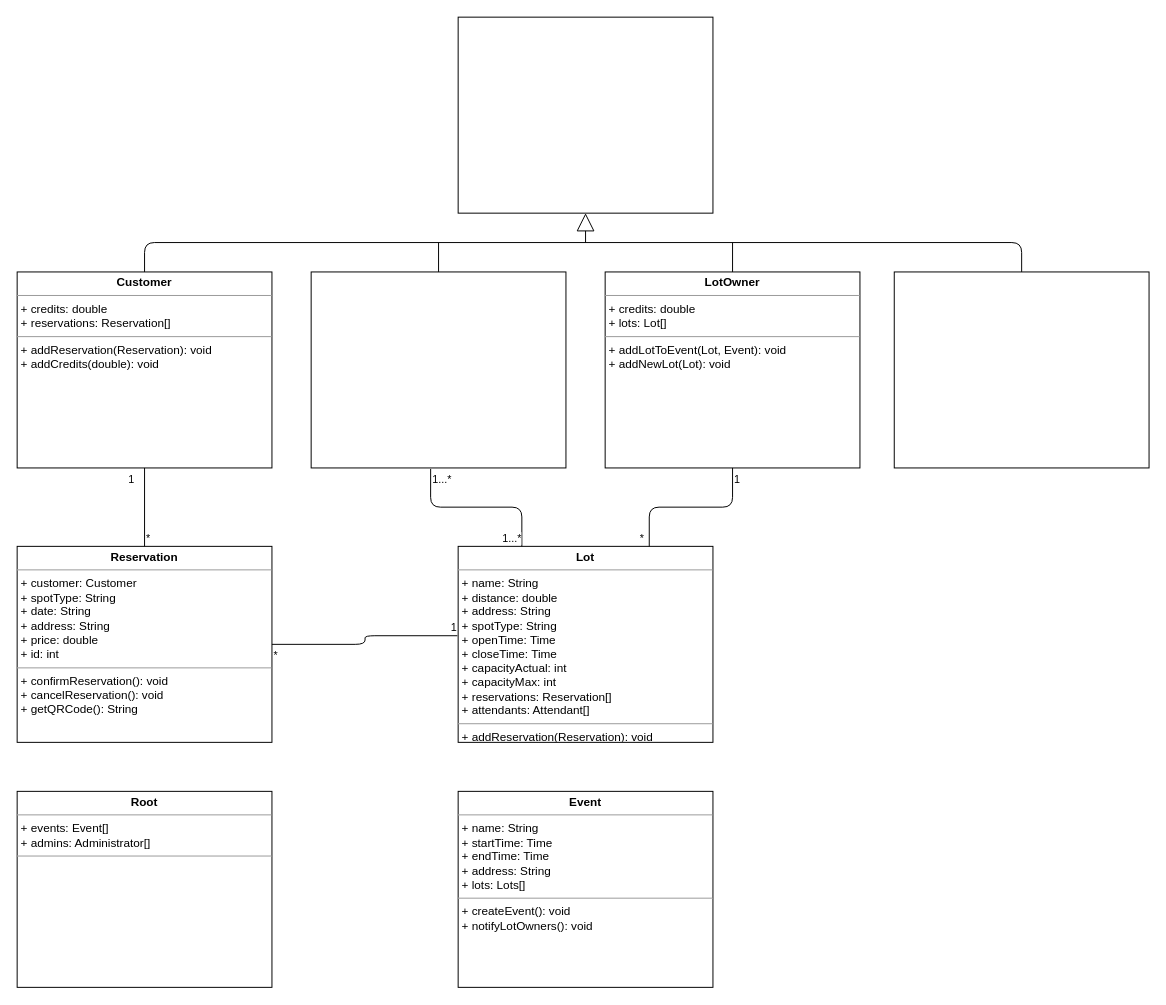
Image size: 1166x1005. Some labels were removed from this diagram. The centre of each missing label's shape, as x and y in pixels:
"Administrator + credits: double" goes at [1021,369].
"Attendant + lot: Lot + verify(Reservation): bool" goes at [438,369].
"User + firstName: String + lastName: String + email: String + password: Hash" goes at [585,114].
